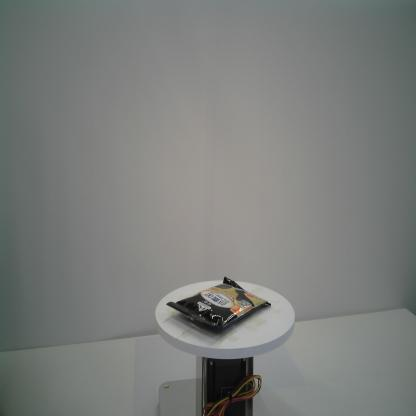Instant Drink: (166, 275, 272, 330)
